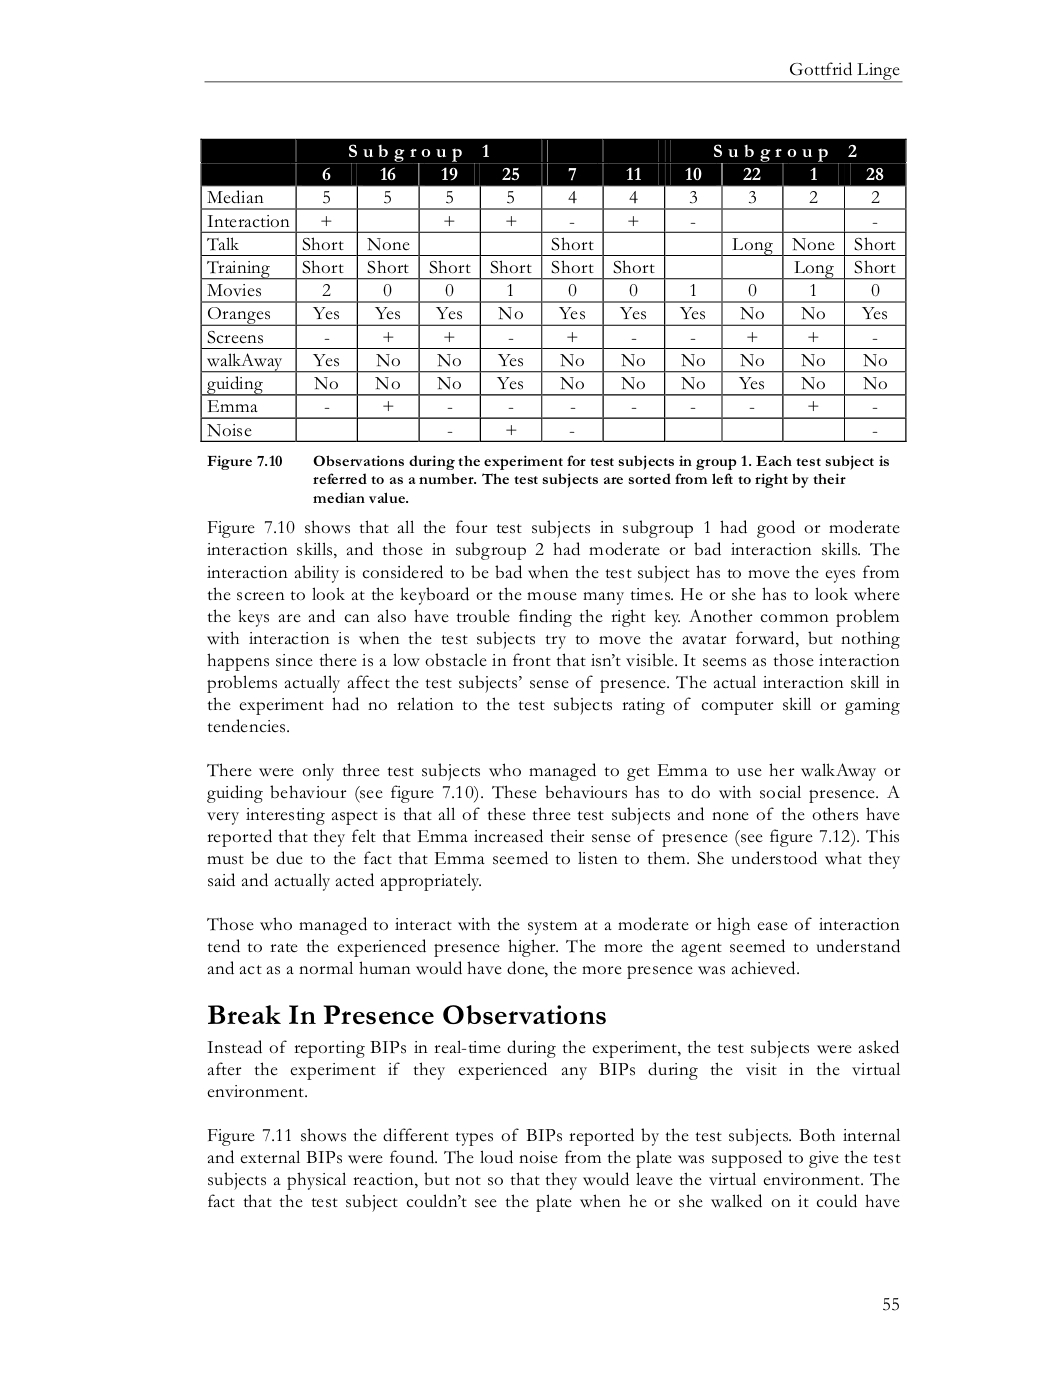Table: (199, 137, 906, 442)
